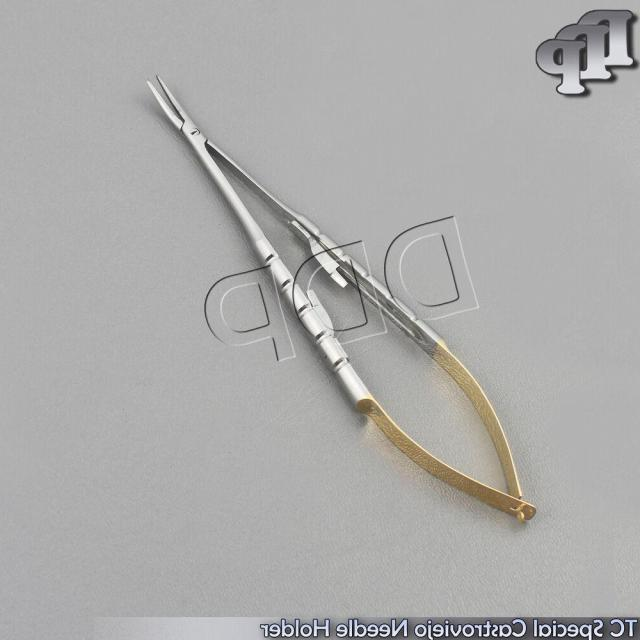Castroviejo: (135, 72, 541, 532)
